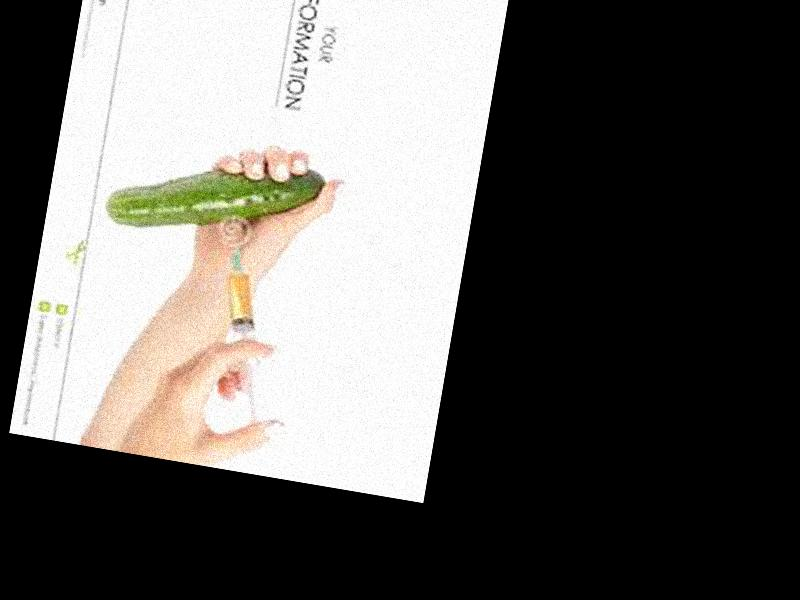Cucumber: (103, 137, 326, 257)
